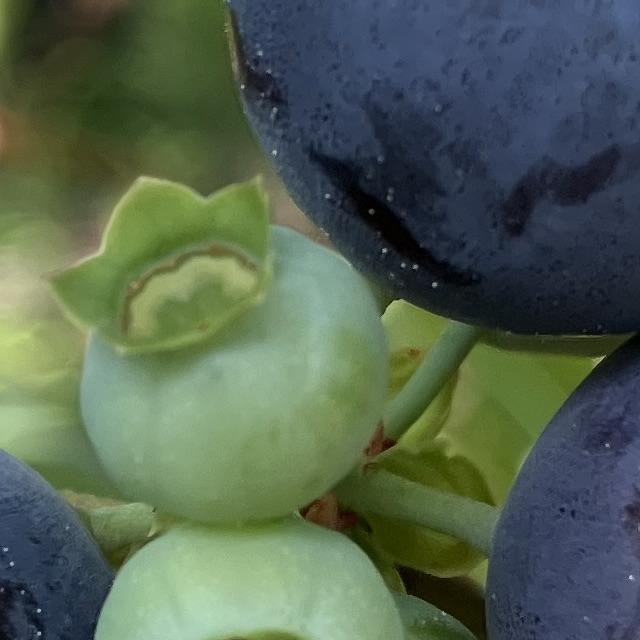Blueberries: (219, 0, 640, 343), (44, 162, 403, 531)
